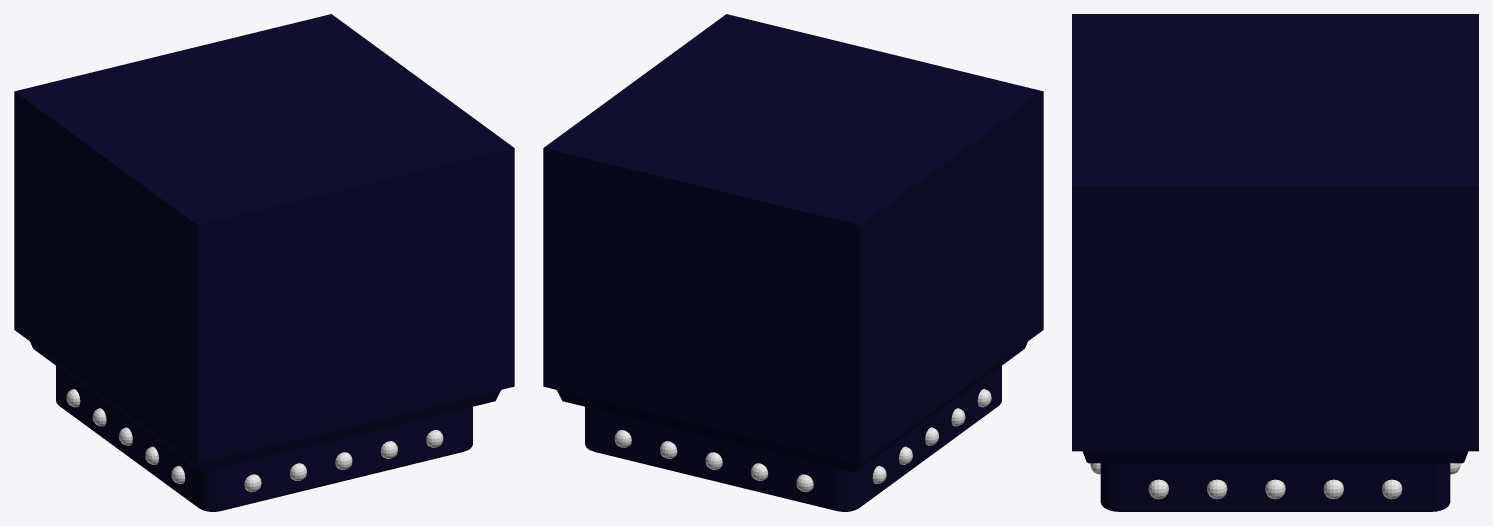
File: CubeCreatorMachine.fbx
3 views of the same model, side by side, from view 1: azimuth 30°, elevation 25°; view 2: azimuth 150°, elevation 25°; view 3: azimuth 270°, elevation 25° (orthographic). The views are drawn at different scales.
Visible parts, largest first — view 1: Cube.029; view 2: Cube.029; view 3: Cube.029.
Boxes of the visible parts, x1,y1,x2,y2 form: Cube.029: (14,14,514,511); Cube.029: (543,14,1043,511); Cube.029: (1072,14,1478,511).
Size of the model in its own units: 675 by 626 by 675.
